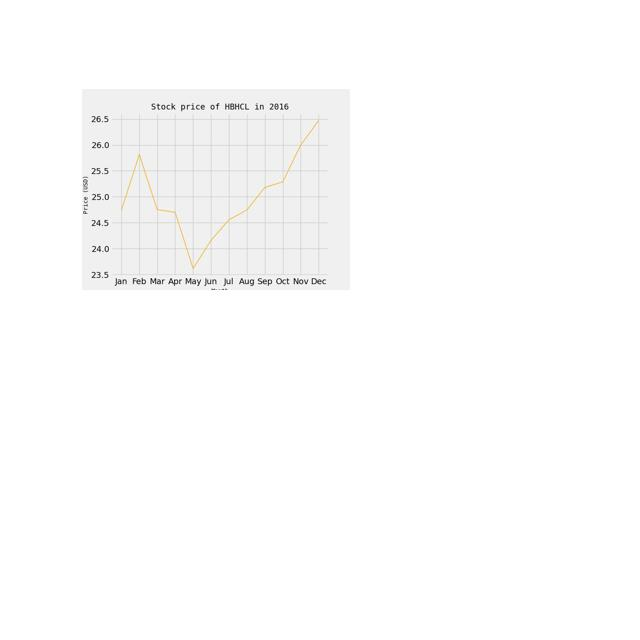Graph: (82, 89, 350, 290)
